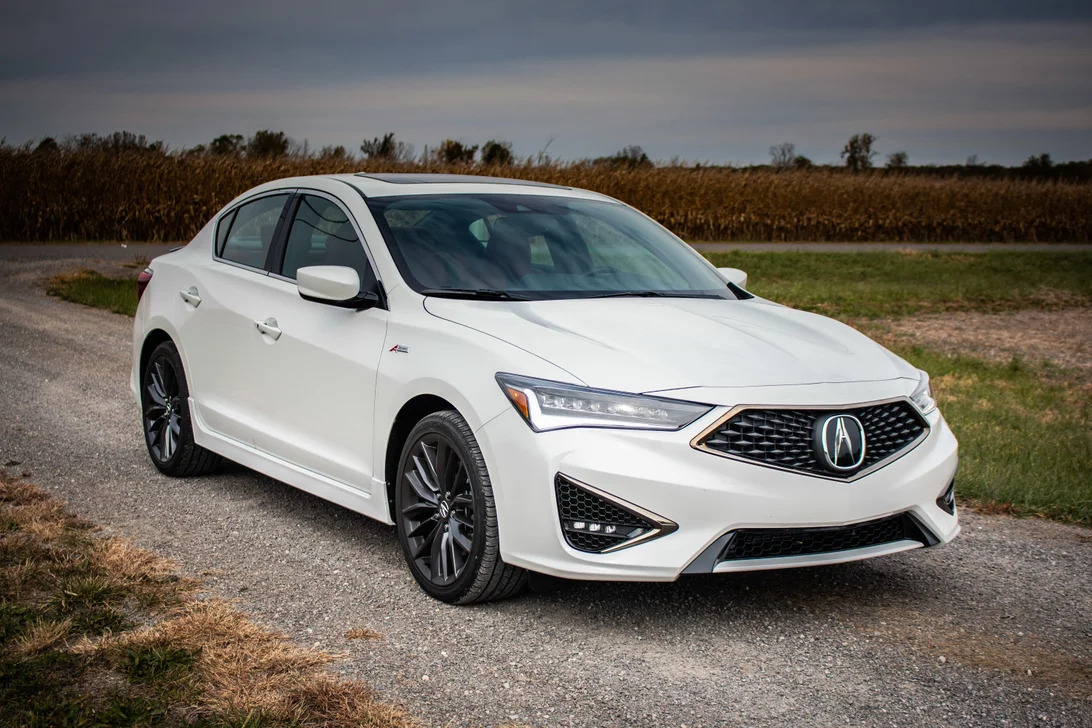Fog Lamp & Scope: (553, 481, 660, 551)
Front: (408, 300, 967, 576)
Front Bumper: (490, 476, 975, 568)
Grill: (711, 415, 923, 468)
Headlight: (494, 372, 708, 431)
